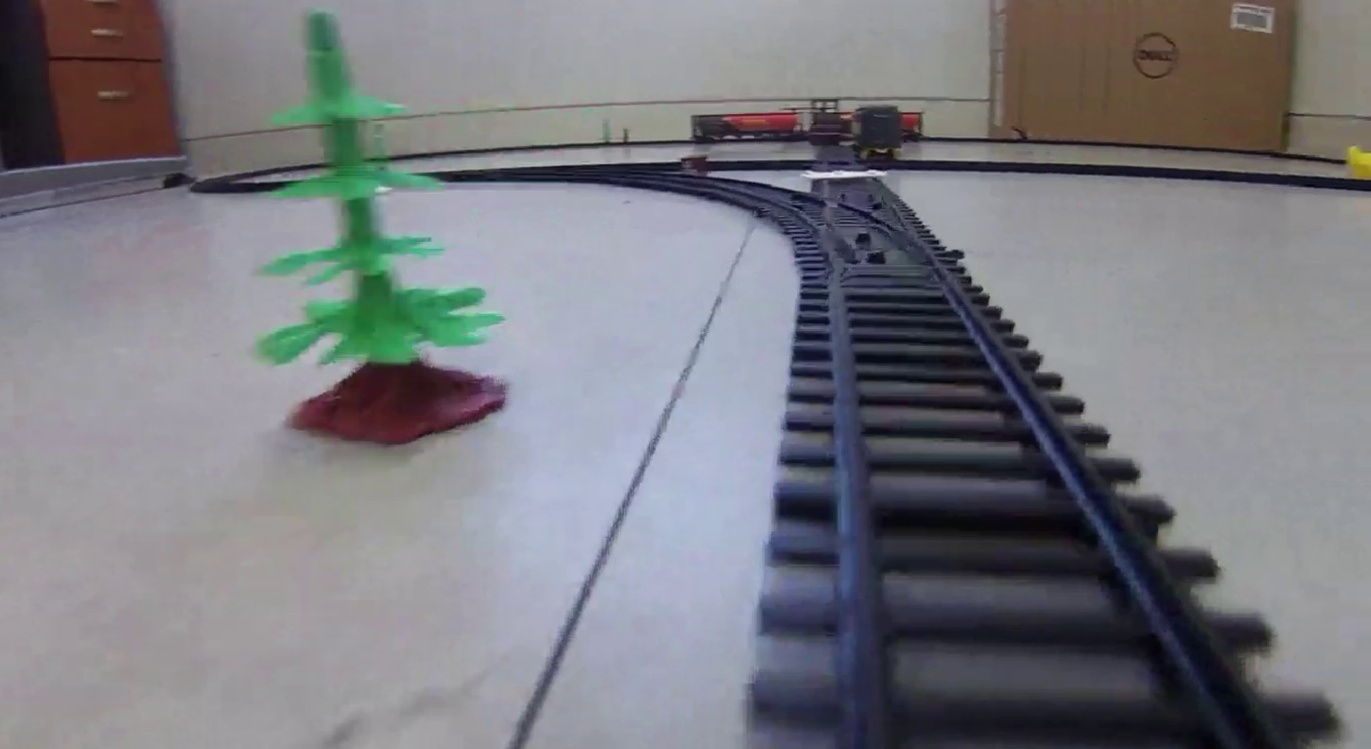tree: (248, 11, 510, 448)
